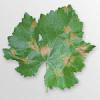grape leaf black rot: (2, 4, 98, 97)
